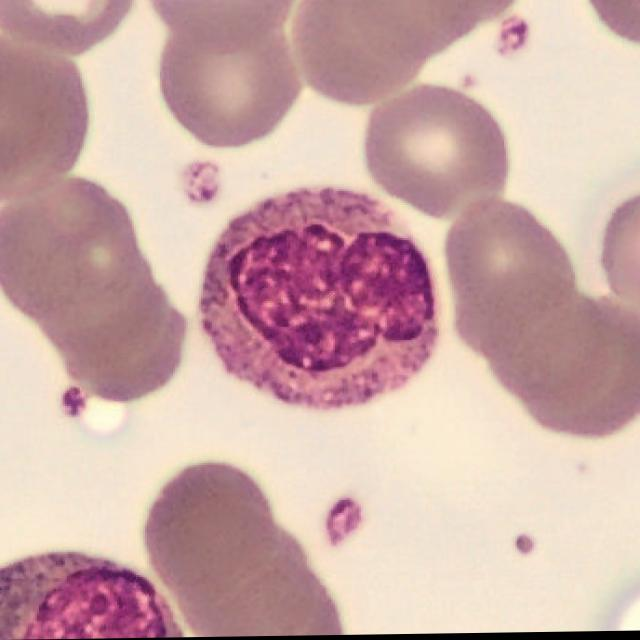Neutrofilo segmentado: (199, 185, 441, 411)
